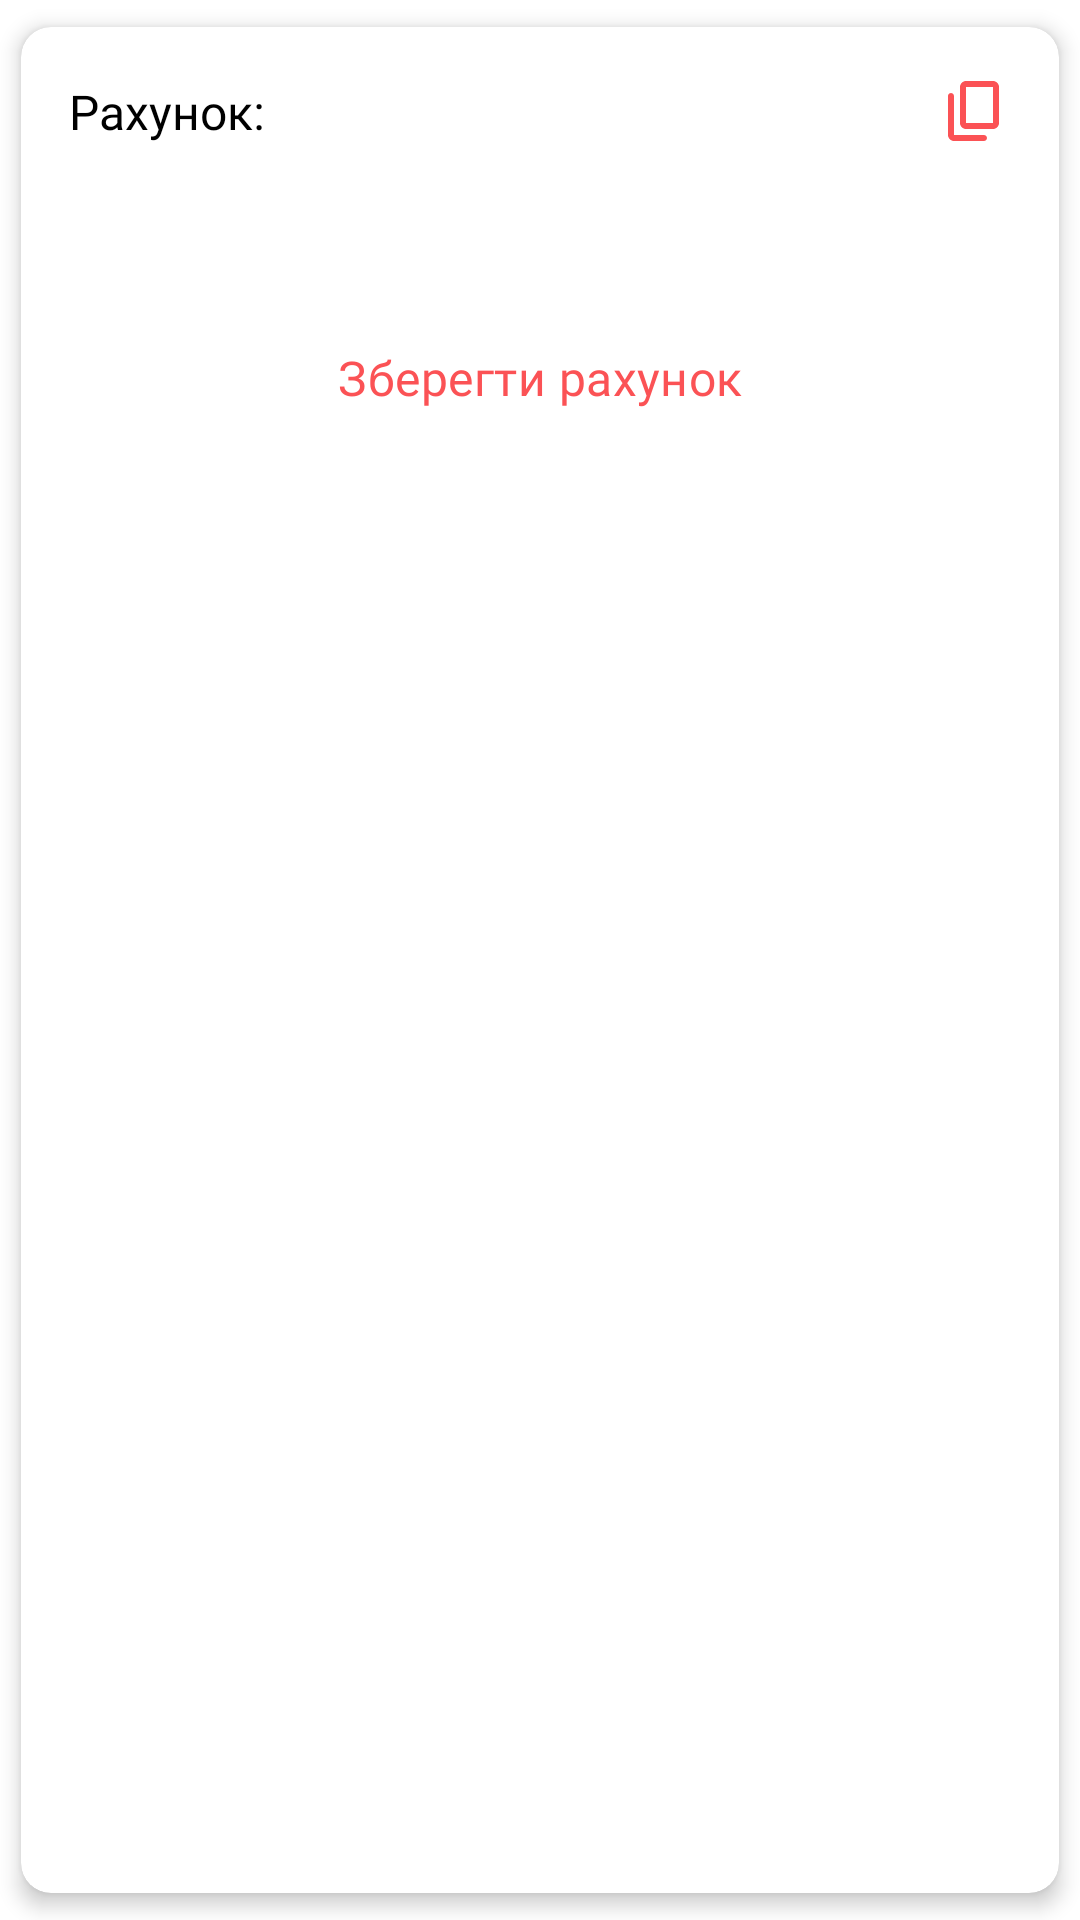

Icons on this 1080px×1920px Android screen, each with the point to tap as (x,y):
Copy bill: (973,111)
